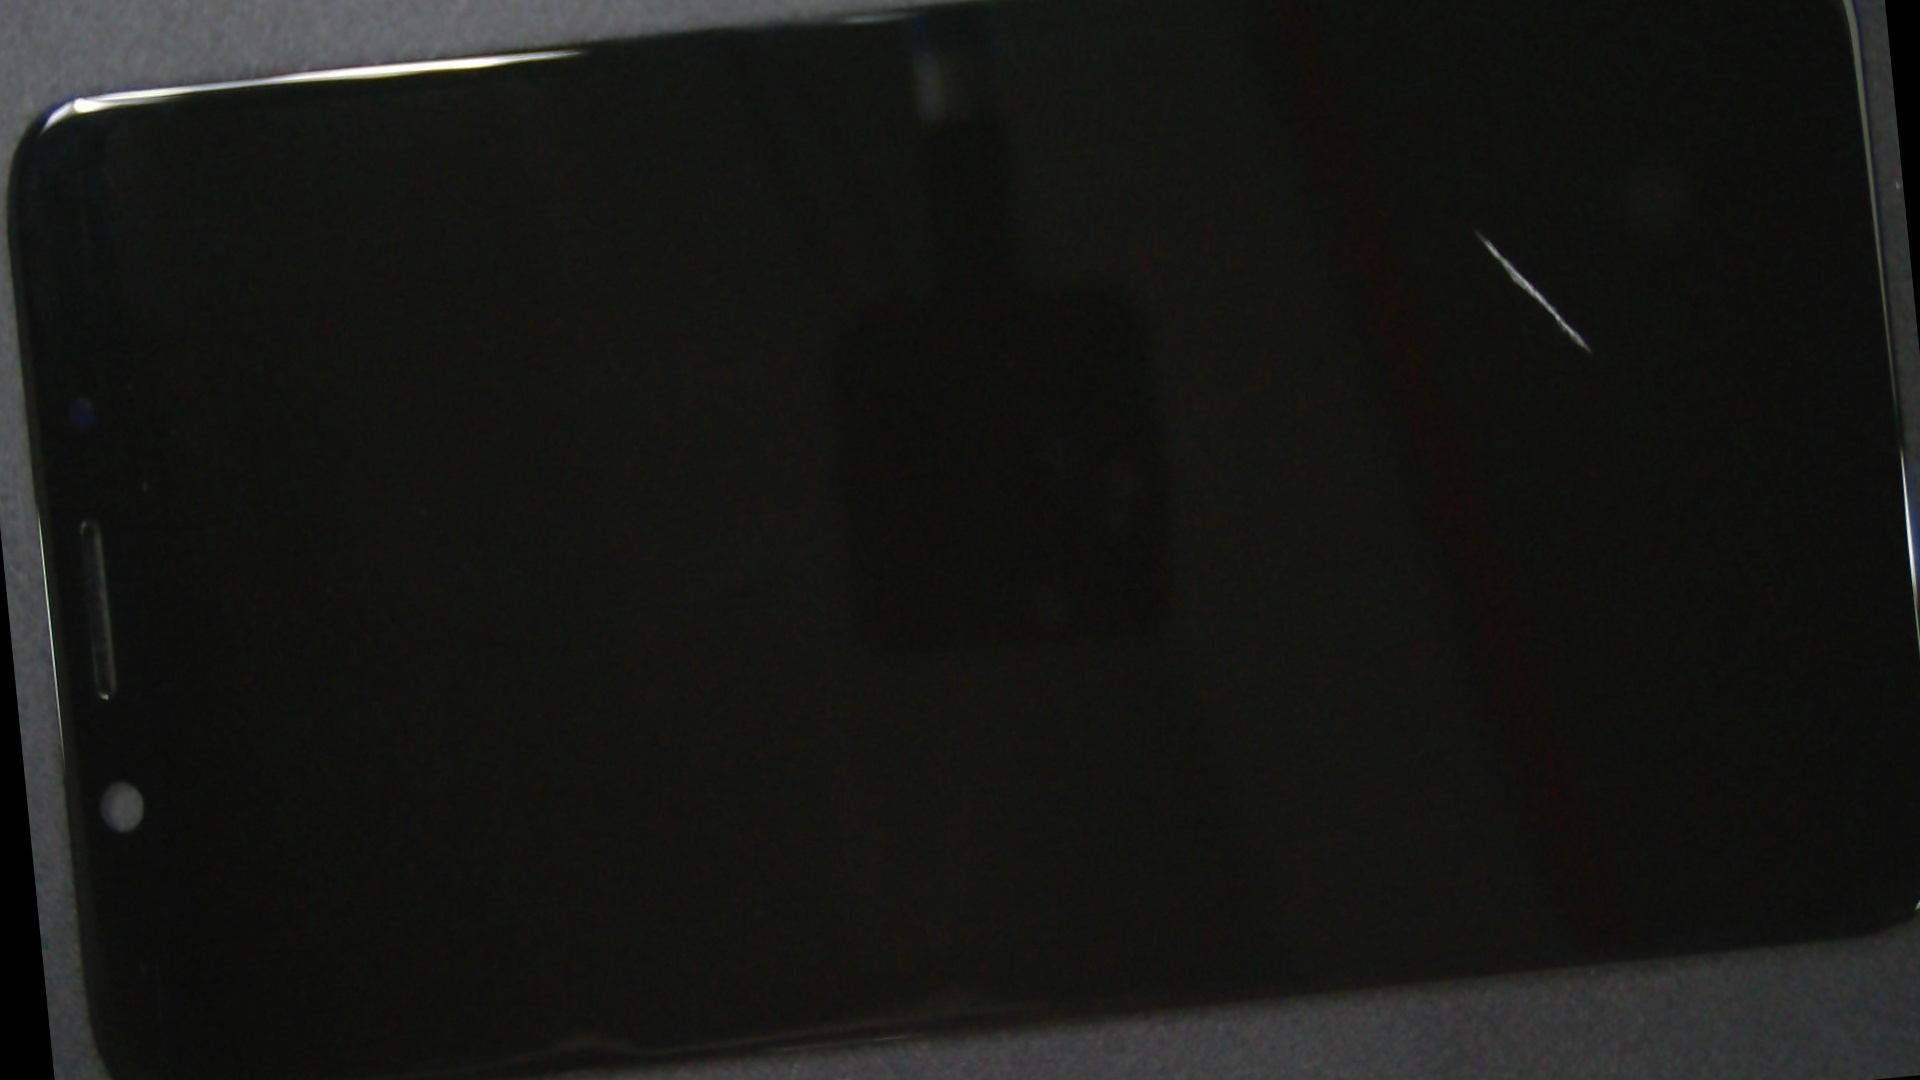oil: (711, 0, 1920, 491)
